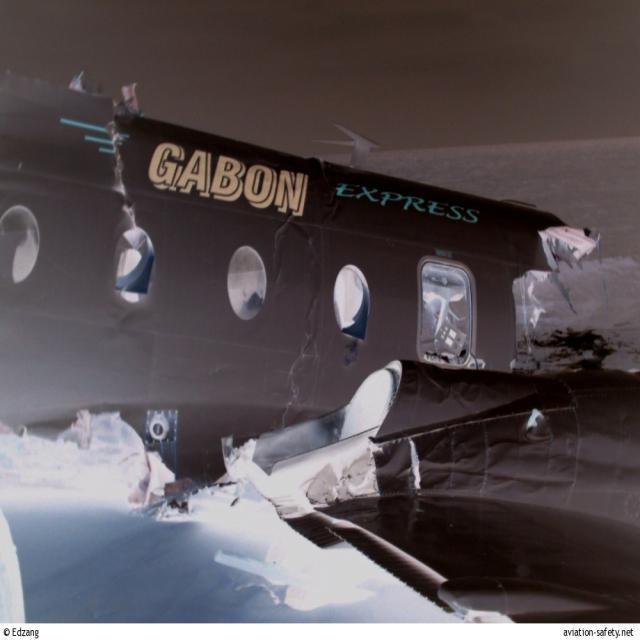crack: (281, 322, 320, 430), (107, 114, 143, 231), (409, 439, 424, 488)
